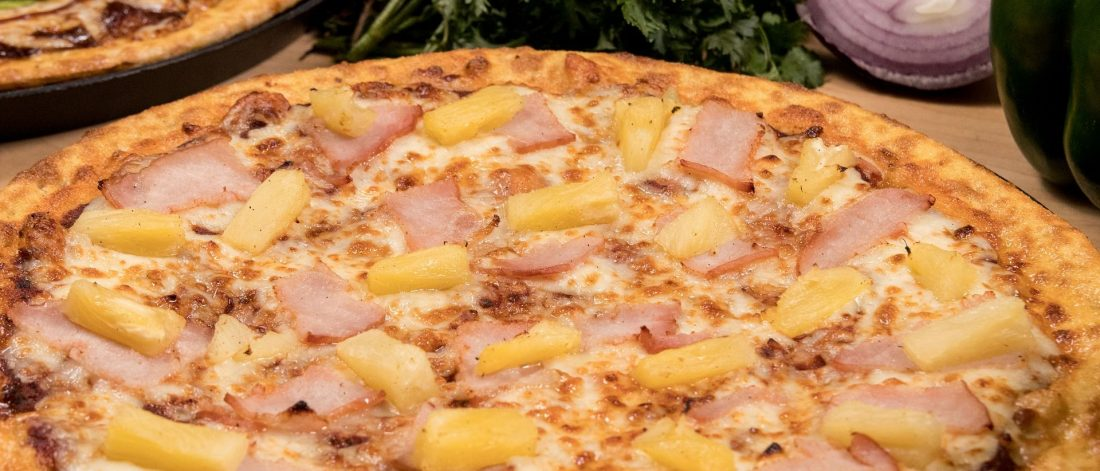Ham: (12, 297, 211, 384), (96, 137, 258, 214), (795, 187, 933, 272), (270, 257, 388, 343), (231, 368, 383, 428), (810, 382, 993, 431), (299, 102, 418, 164), (382, 181, 483, 253), (680, 108, 765, 187), (471, 236, 608, 274), (574, 300, 682, 348), (495, 97, 573, 154), (826, 334, 921, 368)
Pineapple: (112, 401, 248, 471), (901, 296, 1032, 368), (67, 280, 187, 358), (829, 396, 945, 462), (335, 332, 442, 403), (418, 408, 540, 470), (771, 262, 870, 335), (508, 169, 622, 231), (227, 163, 305, 253), (421, 79, 533, 141), (634, 335, 760, 385), (469, 320, 579, 373), (611, 95, 673, 173), (665, 202, 744, 261), (82, 211, 188, 254), (788, 130, 849, 202), (368, 251, 469, 292), (638, 426, 732, 470), (909, 239, 976, 297), (309, 88, 374, 137)
Pizza: (0, 45, 1100, 469)
